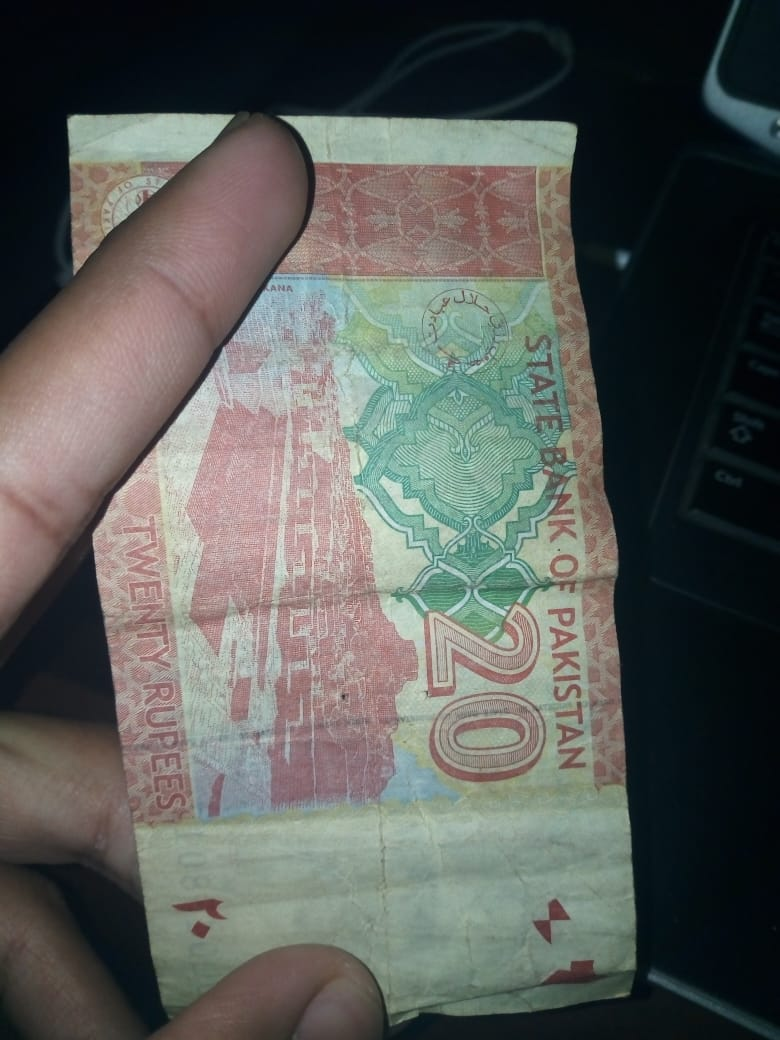20 rupee: (23, 60, 664, 1025)
